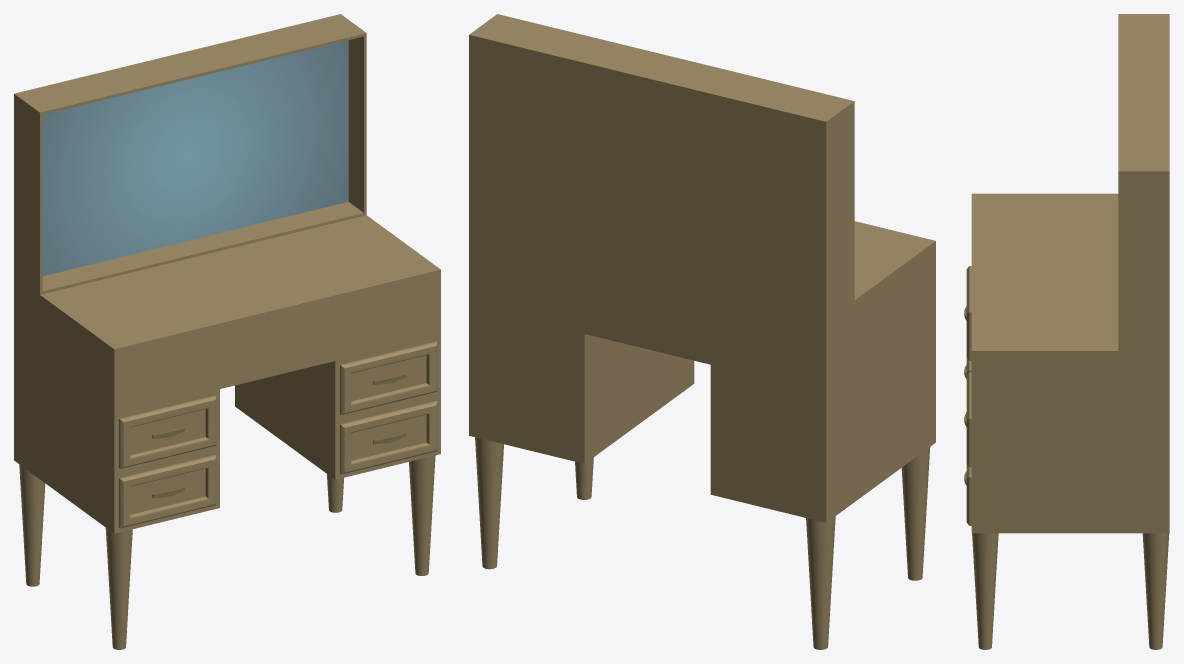
The model's file is vanity.fbx.
3 views of the same model, side by side, from view 1: azimuth 30°, elevation 25°; view 2: azimuth 150°, elevation 25°; view 3: azimuth 270°, elevation 25° (orthographic). The views are drawn at different scales.
Parts seen in each view (by area): view 1: pCube19; view 2: pCube19; view 3: pCube19.
Boxes of the visible parts, <box> form: pCube19: <box>14,14,440,649</box>; pCube19: <box>469,14,935,649</box>; pCube19: <box>964,14,1169,649</box>.
Size of the model in its own units: 4.88 by 6.96 by 2.69.
